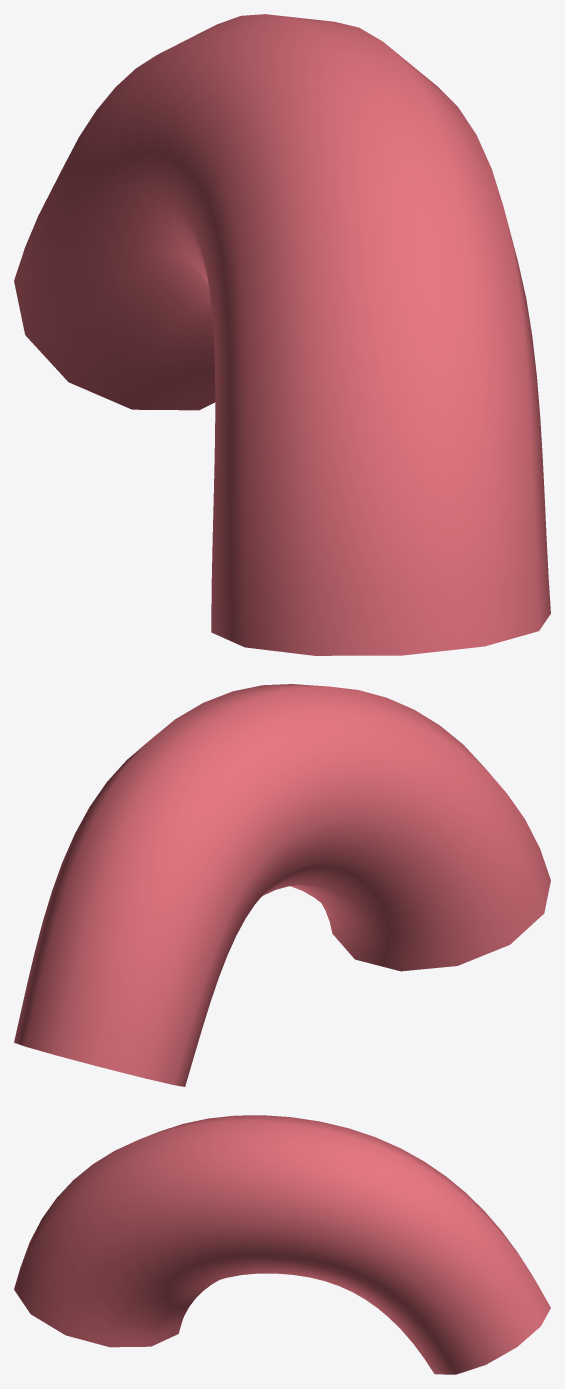
The picture shows the model from 3 angles, top to bottom: view 1: azimuth 30°, elevation 25°; view 2: azimuth 150°, elevation 25°; view 3: azimuth 270°, elevation 25°; orthographic projection. The views are drawn at different scales.
Visible parts, largest first — view 1: ZA_2ad830978b8c83ea; view 2: ZA_2ad830978b8c83ea; view 3: ZA_2ad830978b8c83ea.
Boxes of the visible parts, x1,y1,x2,y2 form: ZA_2ad830978b8c83ea: (14, 14, 550, 655); ZA_2ad830978b8c83ea: (14, 684, 550, 1086); ZA_2ad830978b8c83ea: (14, 1115, 550, 1374).
Size of the model in its own units: 0.0397 by 0.0415 by 0.0852.
